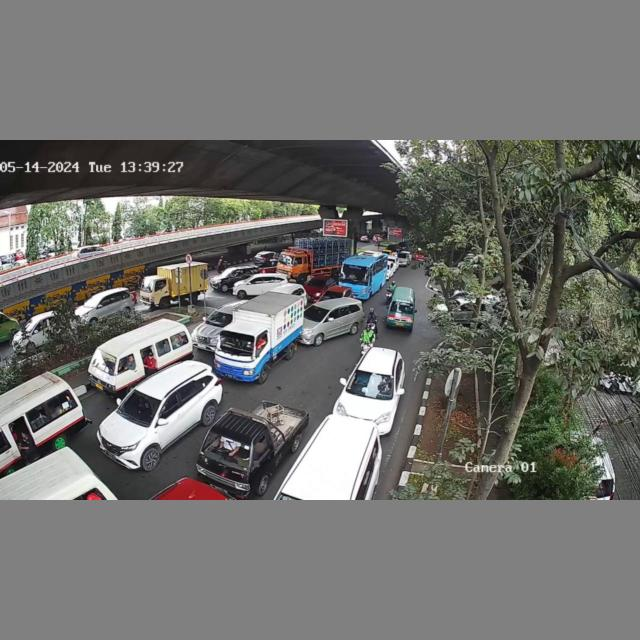windshield: (201, 430, 253, 471), (116, 389, 161, 424), (346, 369, 393, 401), (219, 332, 270, 356), (86, 347, 119, 379), (206, 309, 231, 328), (303, 304, 329, 322), (388, 300, 414, 315)
